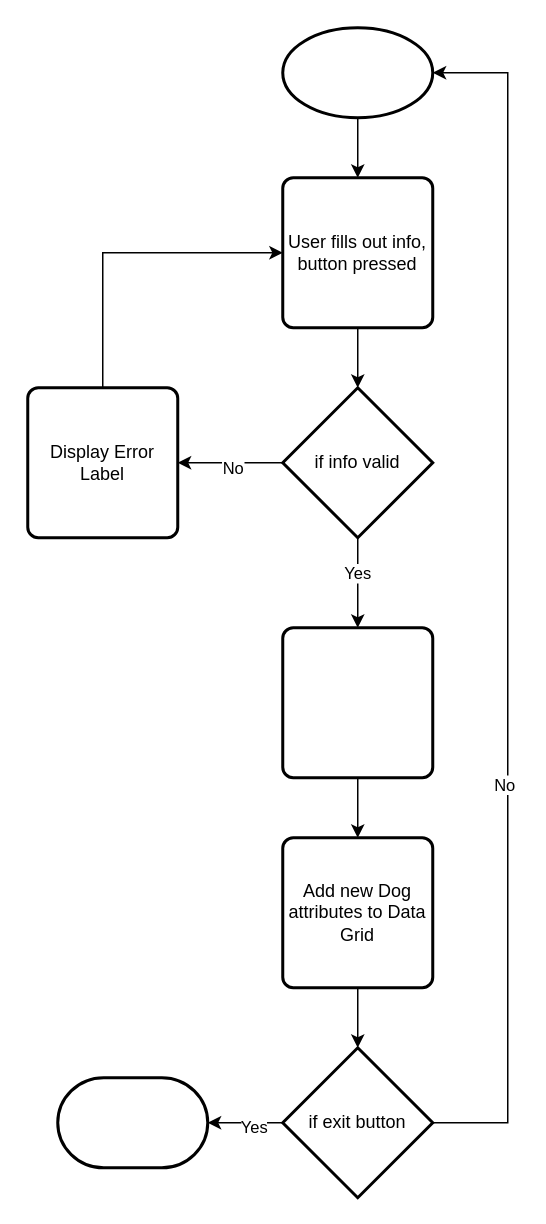
Image size: 546x1224. Some labels were removed from this diagram. The centre of each missing label's shape, as x and y in pixels:
Create new Dog object with user attributes: the point at 357,702
Start: the point at 357,72
